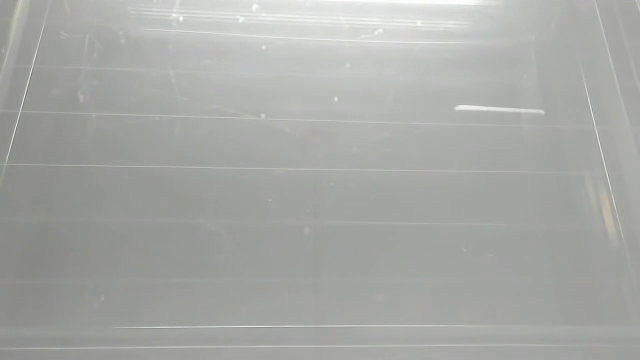alpha: (452, 100, 547, 121)
